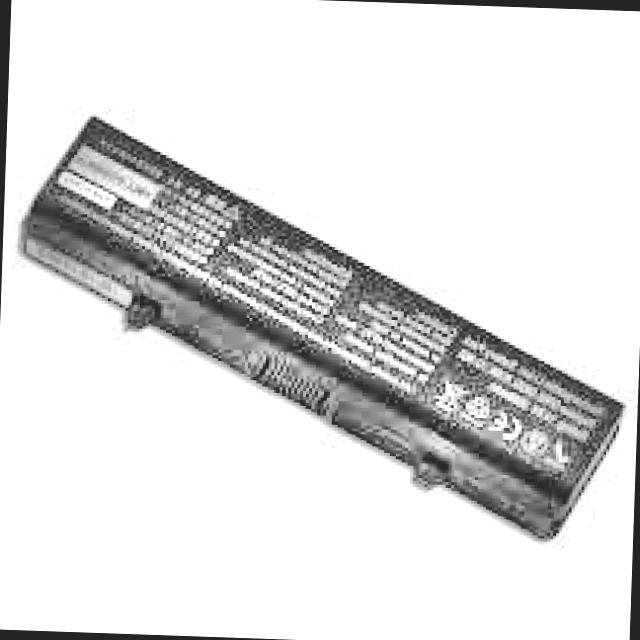Battery: (0, 113, 640, 559)
